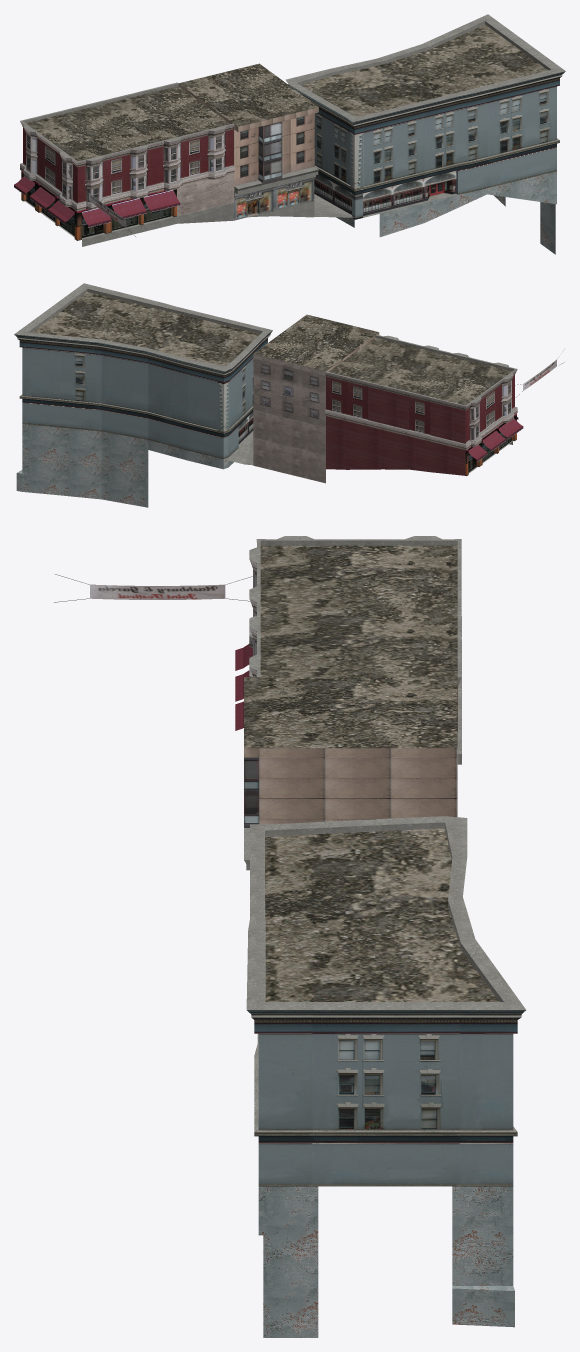
File: shoppie6_sfs04.obj
The picture shows the model from 3 angles, top to bottom: view 1: azimuth 30°, elevation 25°; view 2: azimuth 150°, elevation 25°; view 3: azimuth 270°, elevation 25°; orthographic projection. The views are drawn at different scales.
Parts seen in each view (by area): view 1: shoppie6_SFS04; view 2: shoppie6_SFS04; view 3: shoppie6_SFS04.
Boxes of the visible parts, <box> form: shoppie6_SFS04: <box>14,14,565,254</box>; shoppie6_SFS04: <box>14,283,564,507</box>; shoppie6_SFS04: <box>54,536,525,1337</box>.
Bounding box in the file's own units: 104 × 42.35 × 47.99.
Materials: 18 (18 with a texture image).
